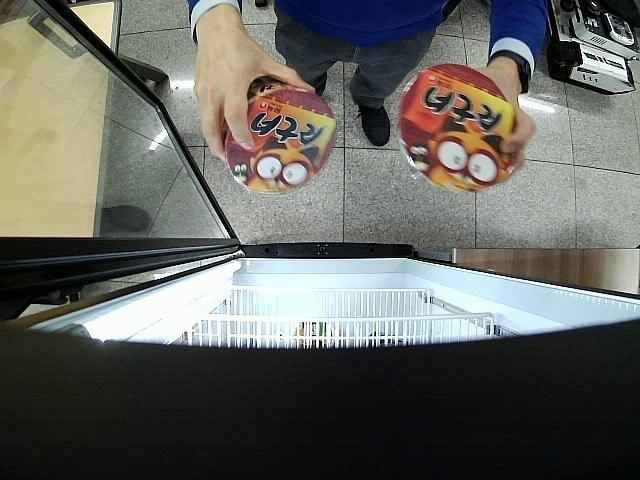05_nuguri_L: (399, 64, 518, 190), (224, 76, 336, 194)
